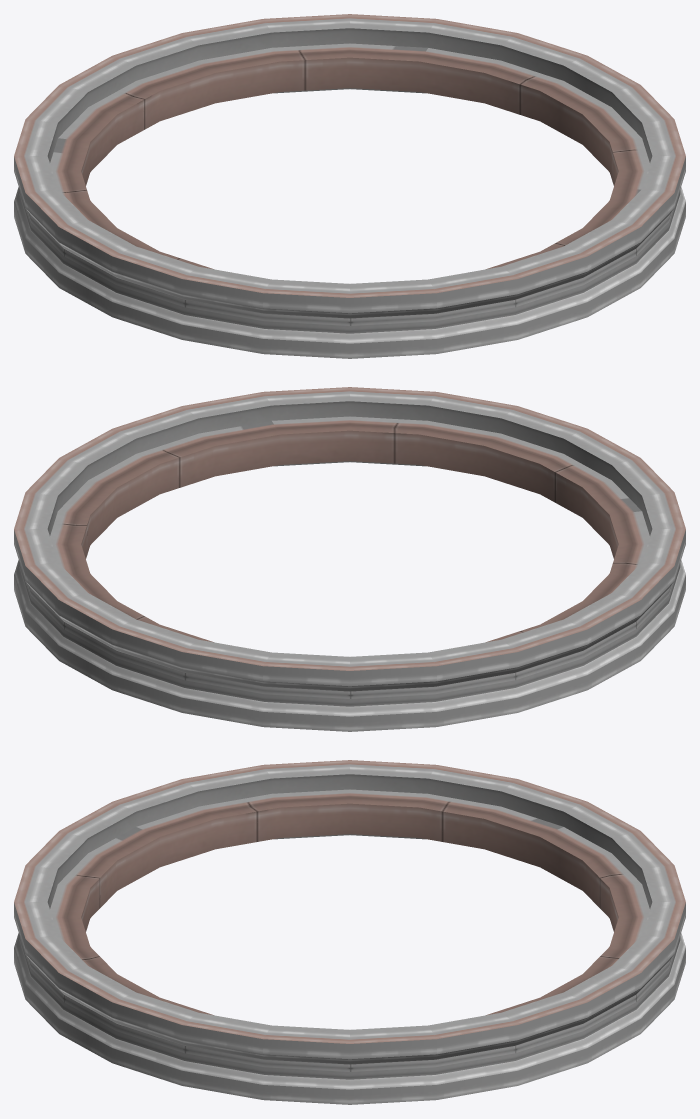
The model's file is Castor_Decoupler_1_P.obj.
3 renders of one model, top to bottom at view 1: azimuth 30°, elevation 25°; view 2: azimuth 150°, elevation 25°; view 3: azimuth 270°, elevation 25°, orthographic.
Visible parts, largest first — view 1: Castor_Decoupler_1_P; view 2: Castor_Decoupler_1_P; view 3: Castor_Decoupler_1_P.
Part boxes in pixels (x1,y1,x2,y2): Castor_Decoupler_1_P: (14,14,685,358); Castor_Decoupler_1_P: (14,387,685,731); Castor_Decoupler_1_P: (14,760,685,1104).
Bounding box in the file's own units: 1.25 × 0.125 × 1.25.
